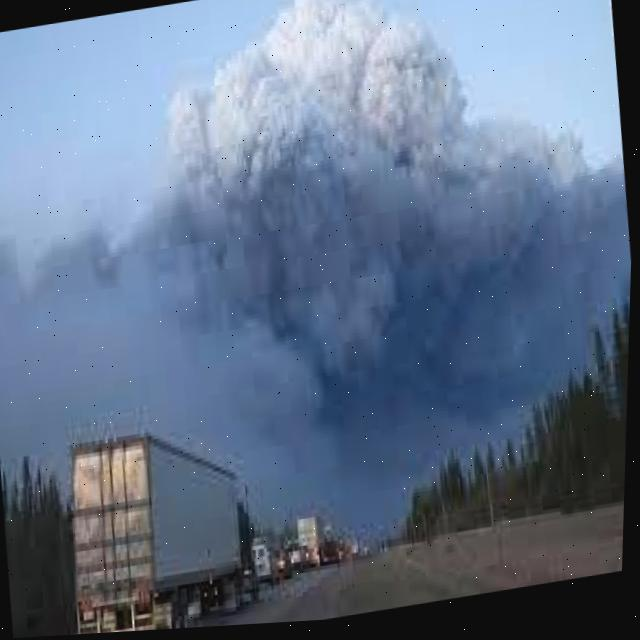smoke: (0, 0, 633, 548)
